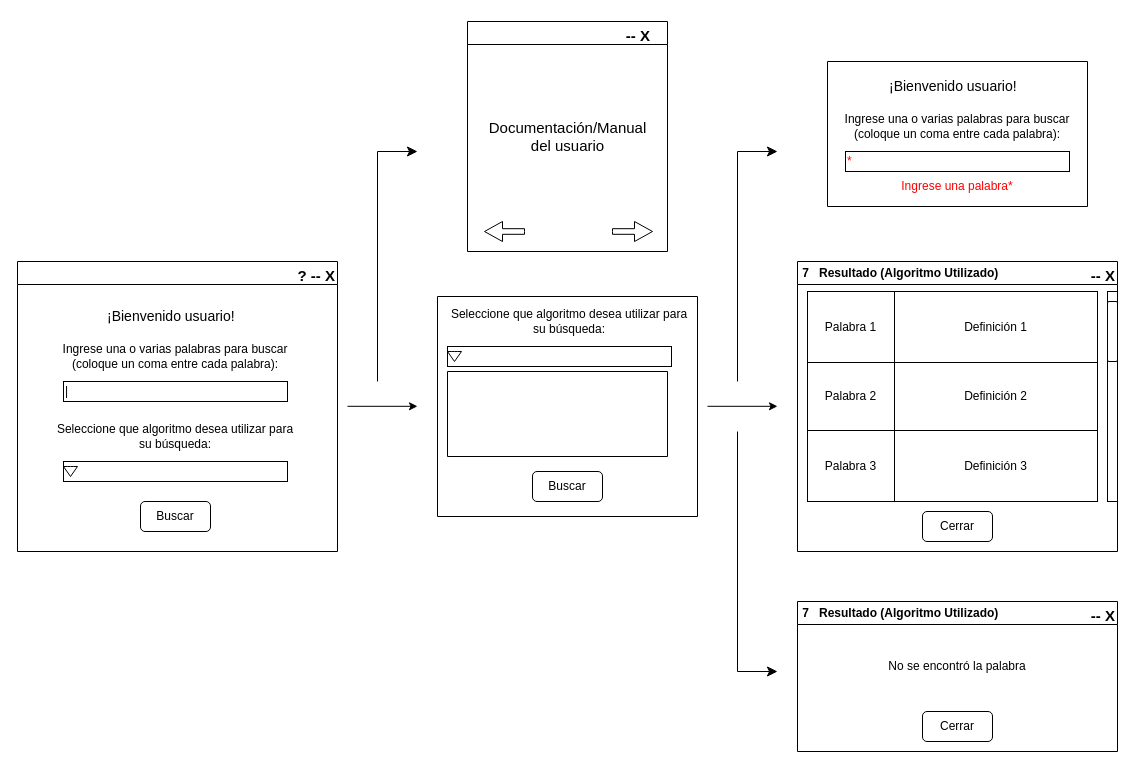
The diagram is 1135 pixels wide and 769 high, and some of its shapes have lost their labels. Each missing label, with the box of its shape:
7 Algoritmos para búsqueda en diccionario: (16, 260, 338, 552)
7 Ayuda: (466, 20, 668, 252)
Búsqueda Binaria (Listas) DFS (Arboles) BFS (Grafos) Algoritmo 4 Algoritmo 5: (446, 370, 668, 456)
